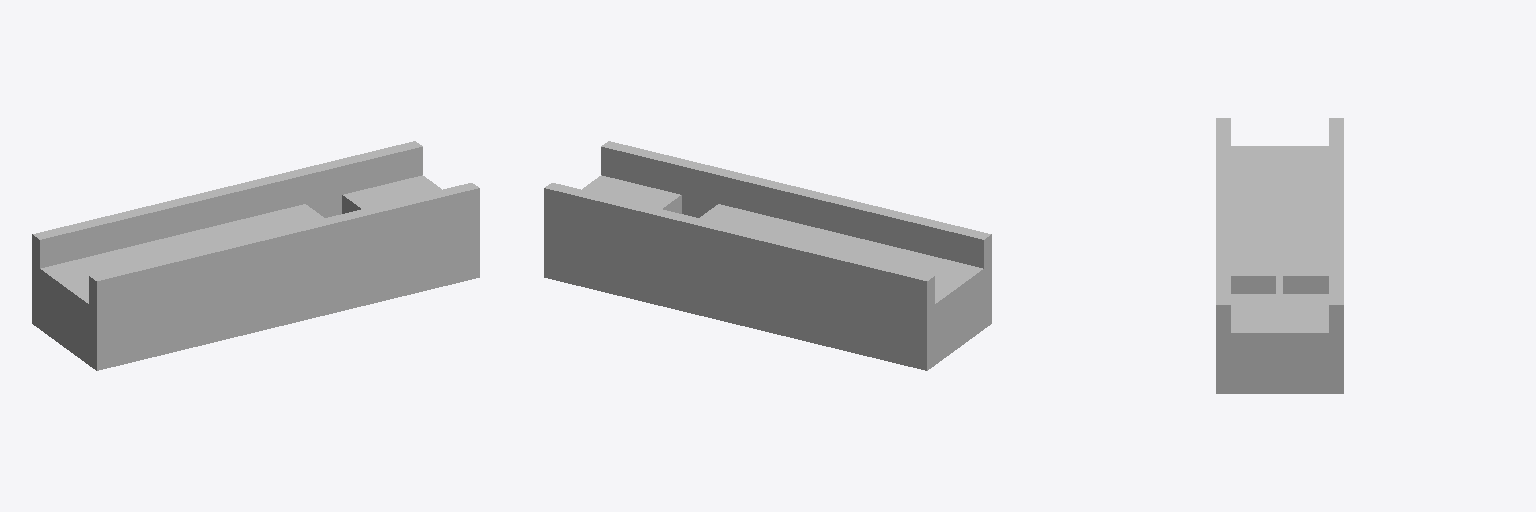
File: rimspire_col.obj
3 views of the same model, side by side, from view 1: azimuth 30°, elevation 25°; view 2: azimuth 150°, elevation 25°; view 3: azimuth 270°, elevation 25° (orthographic).
Visible parts, largest first — view 1: Collider_Cube.003; view 2: Collider_Cube.003; view 3: Collider_Cube.003.
Part boxes in pixels (bbox=[...]): Collider_Cube.003: bbox=[32, 141, 479, 370]; Collider_Cube.003: bbox=[544, 141, 991, 370]; Collider_Cube.003: bbox=[1216, 118, 1343, 393].
Size of the model in its own units: 23.51 by 5.26 by 6.85.